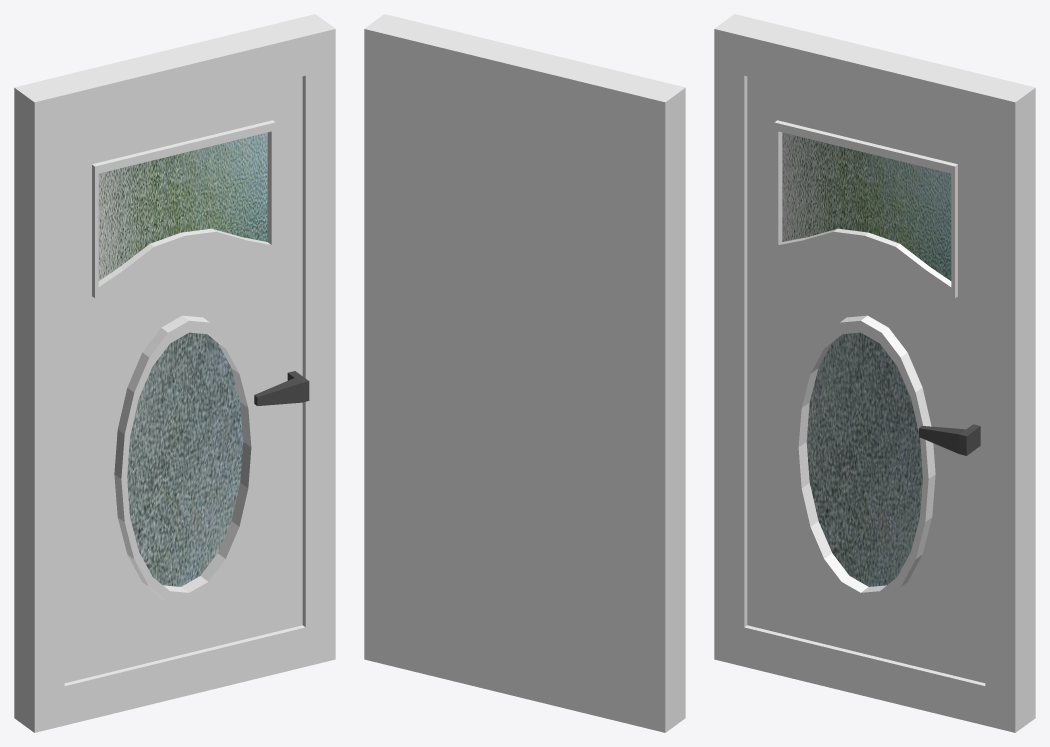
The model's file is Puerta_07.fbx.
3 renders of one model, left to right at view 1: azimuth 30°, elevation 25°; view 2: azimuth 150°, elevation 25°; view 3: azimuth 330°, elevation 25°, orthographic.
Visible parts, largest first — view 1: Cube.007; view 2: Cube.007; view 3: Cube.007.
Boxes of the visible parts, x1=… form: Cube.007: x1=14, y1=14, x2=335, y2=732; Cube.007: x1=364, y1=14, x2=685, y2=732; Cube.007: x1=714, y1=14, x2=1035, y2=732.
Bounding box in the file's own units: 200 × 400 × 36.09.
